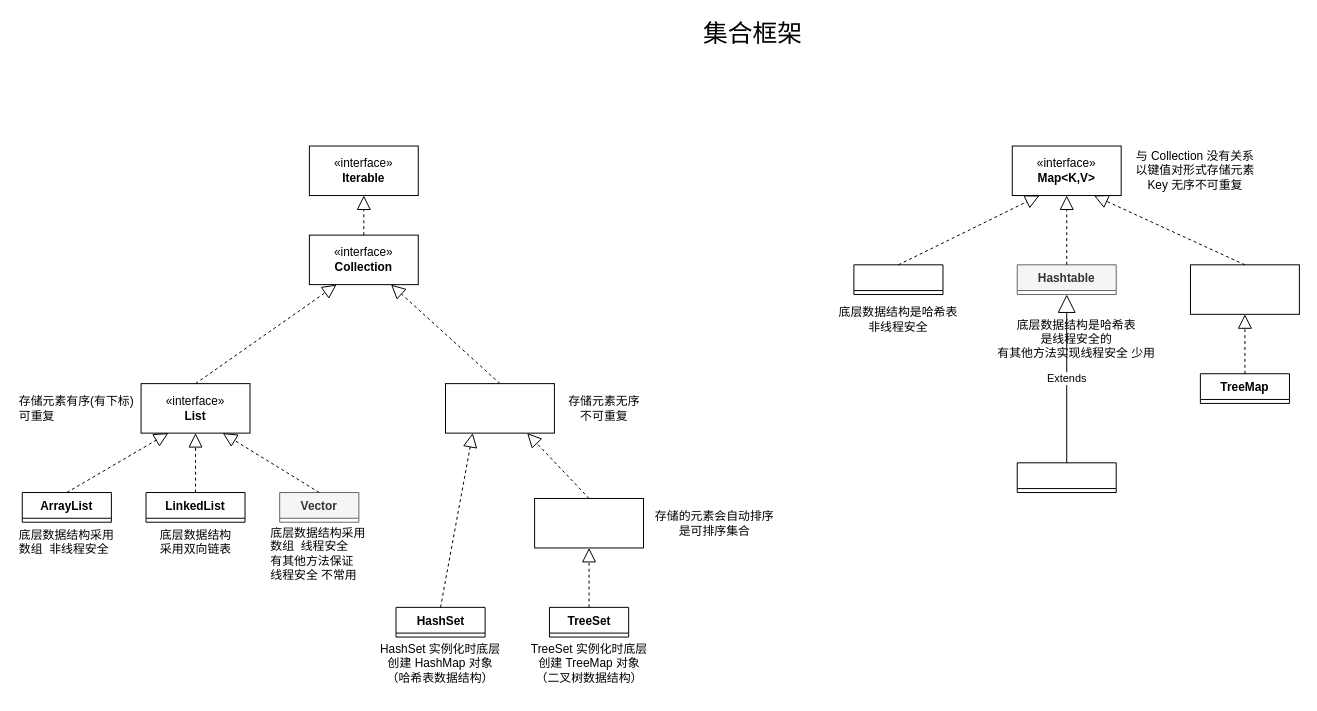
The diagram is 1317 pixels wide and 711 high, and some of its shapes have lost their labels. Each missing label, with the centre of its shape:
HashMap: pixel 898 279
Properties: pixel 1066 477
«interface» Set: pixel 499 408
«interface» SortedMap: pixel 1244 289
«interface» SortedSet: pixel 589 522
